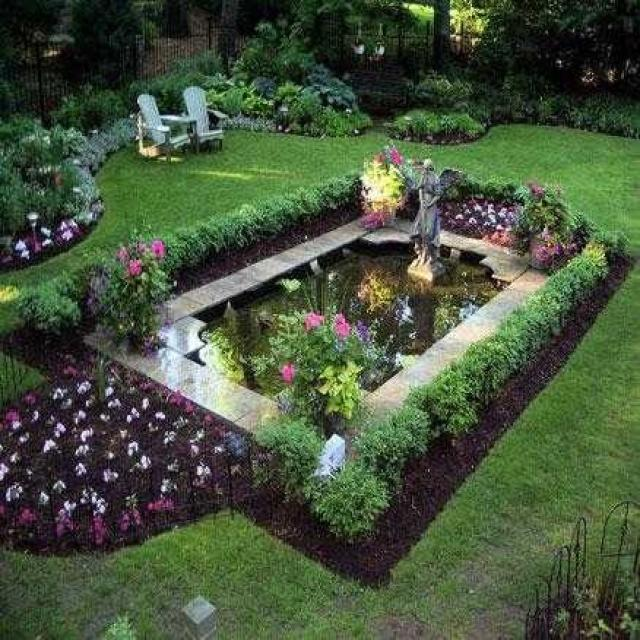Ponds: (90, 208, 559, 462)
